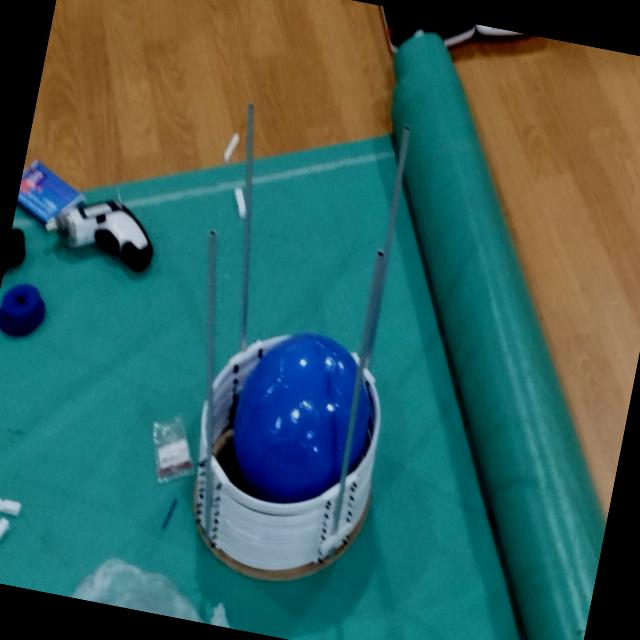blue_ball: (216, 318, 384, 518)
